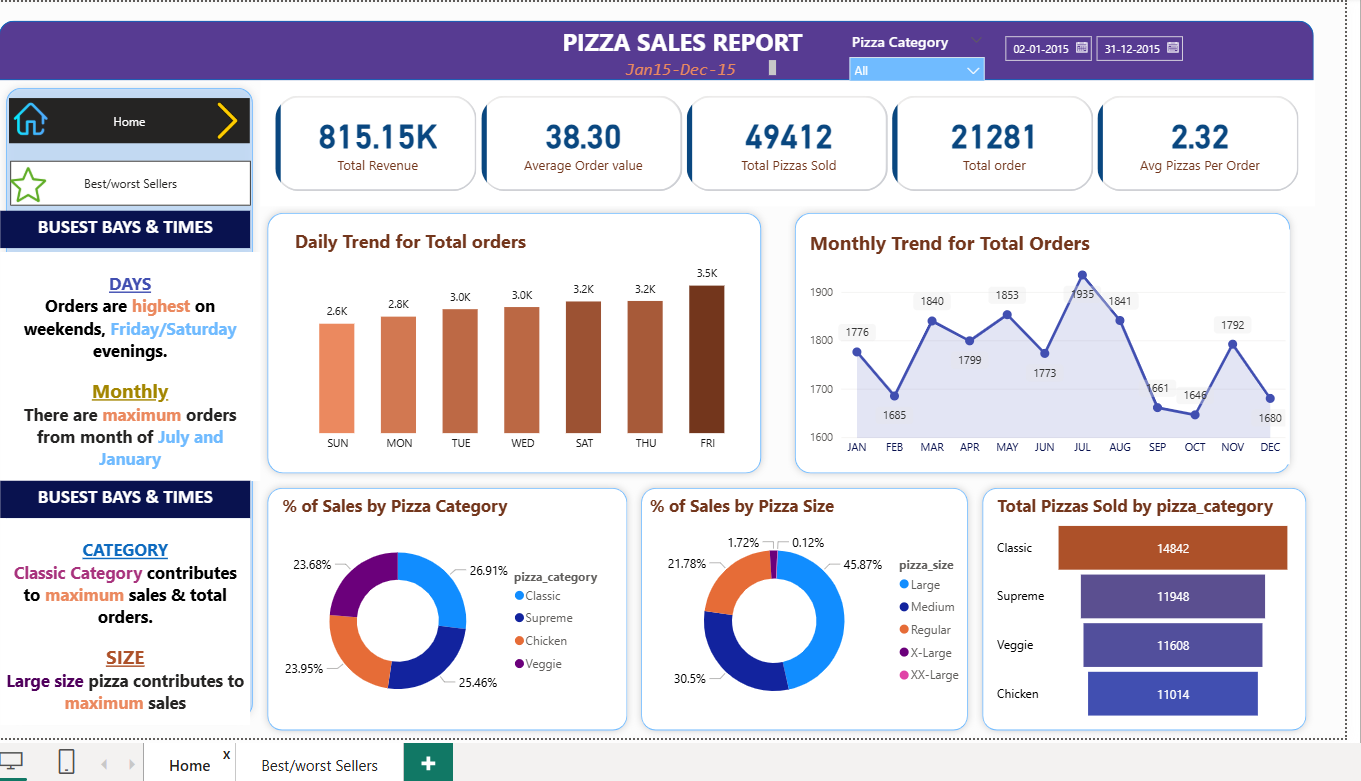

The dashboard page shown, as its layout file describes it:
{"tool":"powerbi","page":{"name":"Home","canvas":[1500,820],"ordinal":0},"visuals":[{"type":"cardVisual","fields":{"Data":["pizza_sales.Total Revenue","pizza_sales.Average Order value","pizza_sales.Total Pizzas Sold","pizza_sales.Total order","pizza_sales.Avg Pizzas Per Order"]},"box":[290.8,87.7,1175.4,140],"z":0},{"type":"shape","box":[0,21.5,1464.6,66.2],"z":1000},{"type":"textbox","box":[622.3,20.9,320,65.9],"z":2000},{"type":"textbox","box":[691.5,59.5,178.5,27.3],"z":3000},{"type":"shape","box":[290.8,227.7,566.2,306.2],"z":4000},{"type":"columnChart","title":"Daily Trend for Total orders","fields":{"Category":["pizza_sales.Order Day"],"Y":["pizza_sales.Total order"]},"box":[324.6,252.3,518.5,258.5],"z":5000},{"type":"shape","box":[878.5,227.7,567.7,306.2],"z":6000},{"type":"areaChart","title":"Monthly Trend for Total Orders","fields":{"Category":["pizza_sales.Order Month"],"Y":["pizza_sales.Total order"]},"box":[898.5,253.8,540,261.5],"z":7000},{"type":"shape","box":[290.8,533.8,416.9,286.2],"z":8000},{"type":"shape","box":[1087.7,533.8,376.9,286.2],"z":9000},{"type":"shape","box":[707.7,533.8,380,286.2],"z":10000},{"type":"donutChart","title":"% of Sales by Pizza Category","fields":{"Category":["pizza_sales.pizza_category"],"Y":["pizza_sales.Total Revenue"]},"box":[310.8,549.2,376.9,256.9],"z":11000},{"type":"shape","box":[0,87.7,290.8,718.5],"z":12000},{"type":"donutChart","title":"% of Sales by Pizza Size","fields":{"Category":["pizza_sales.pizza_size"],"Y":["pizza_sales.Total Revenue"]},"box":[720,549.2,367.7,256.9],"z":13000},{"type":"funnel","fields":{"Category":["pizza_sales.pizza_category"],"Y":["pizza_sales.Total Pizzas Sold"]},"box":[1107.7,549.2,338.5,256.9],"z":14000},{"type":"textbox","box":[1.5,232.3,278.5,41.5],"z":15000},{"type":"textbox","box":[1.5,278.5,289.2,255.4],"z":16000},{"type":"textbox","box":[1.5,533.8,278.5,41.5],"z":17000},{"type":"textbox","box":[1.5,575.4,278.5,230.8],"z":18000},{"type":"slicer","fields":{"Values":["pizza_sales.pizza_category"]},"box":[936.9,27.7,170.8,60],"z":19000},{"type":"slicer","fields":{"Values":["pizza_sales.order_date"]},"box":[1108.6,27.9,235.4,62.7],"z":20000},{"type":"pageNavigator","box":[11.1,107.2,268.8,50.1],"z":20001},{"type":"pageNavigator","box":[12.5,176.9,268.8,50.1],"z":20002},{"type":"image","box":[229.8,111.4,50.1,41.8],"z":20003},{"type":"image","box":[12.5,178.3,40.4,50.1],"z":20004},{"type":"image","box":[12.5,111.4,46,37.6],"z":20005}]}

Visuals, with their boxes on the page's 1500x820 design canvas (x1, y1, x2, y2). These are canvas units, not pixel positions in the 1361x781 screenshot, which may show the page scaled, cropped or inside an application window:
cardVisual - pizza_sales.Total Revenue x pizza_sales.Average Order value: bbox=[291, 88, 1466, 228]
shape: bbox=[0, 22, 1465, 88]
textbox: bbox=[622, 21, 942, 87]
textbox: bbox=[692, 60, 870, 87]
shape: bbox=[291, 228, 857, 534]
"Daily Trend for Total orders" columnChart: bbox=[325, 252, 843, 511]
shape: bbox=[878, 228, 1446, 534]
"Monthly Trend for Total Orders" areaChart: bbox=[898, 254, 1438, 515]
shape: bbox=[291, 534, 708, 820]
shape: bbox=[1088, 534, 1465, 820]
shape: bbox=[708, 534, 1088, 820]
"% of Sales by Pizza Category" donutChart: bbox=[311, 549, 688, 806]
shape: bbox=[0, 88, 291, 806]
"% of Sales by Pizza Size" donutChart: bbox=[720, 549, 1088, 806]
funnel - pizza_sales.pizza_category x pizza_sales.Total Pizzas Sold: bbox=[1108, 549, 1446, 806]
textbox: bbox=[2, 232, 280, 274]
textbox: bbox=[2, 278, 291, 534]
textbox: bbox=[2, 534, 280, 575]
textbox: bbox=[2, 575, 280, 806]
slicer - pizza_sales.pizza_category: bbox=[937, 28, 1108, 88]
slicer - pizza_sales.order_date: bbox=[1109, 28, 1344, 91]
pageNavigator: bbox=[11, 107, 280, 157]
pageNavigator: bbox=[12, 177, 281, 227]
image: bbox=[230, 111, 280, 153]
image: bbox=[12, 178, 53, 228]
image: bbox=[12, 111, 58, 149]
